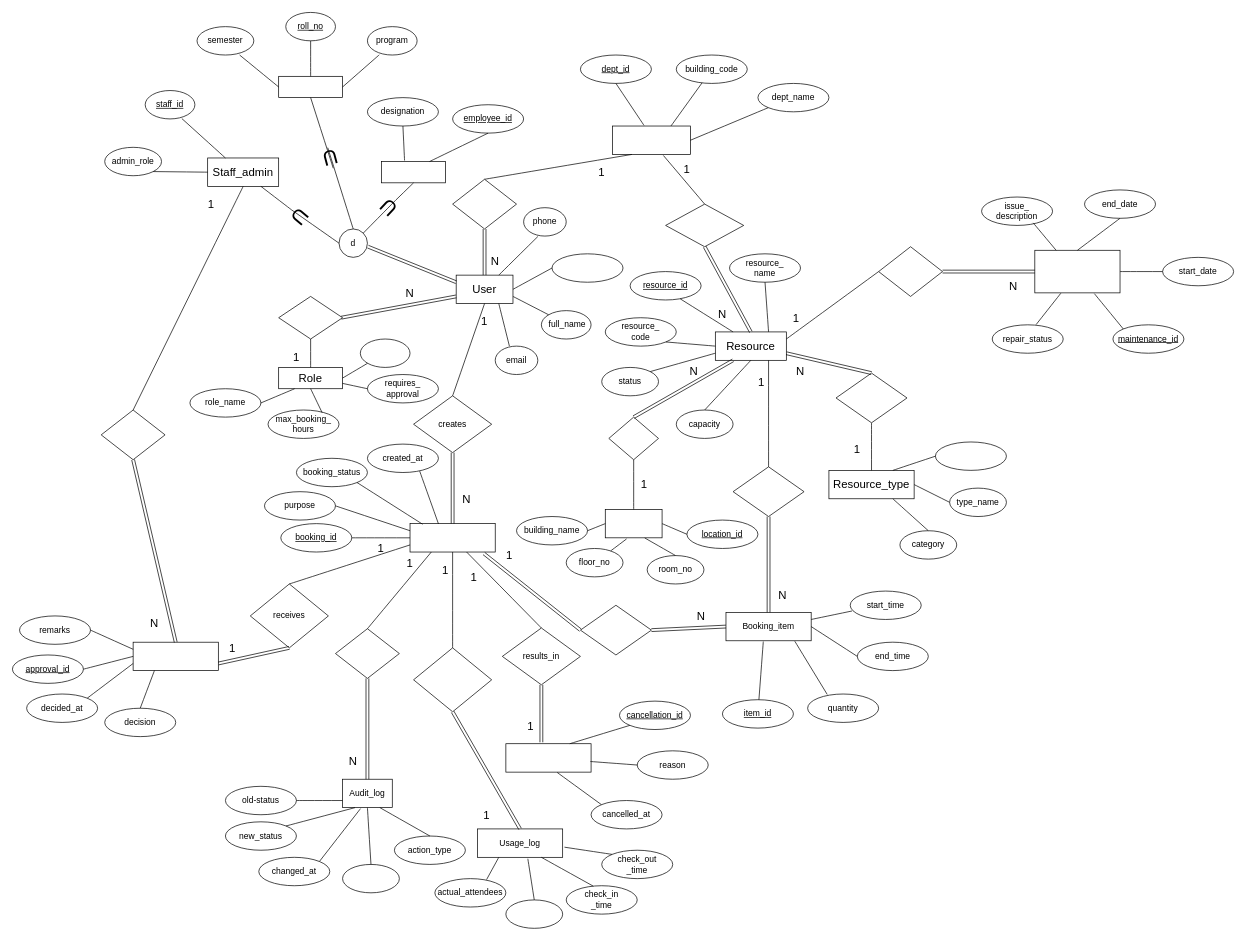
Some shapes in this 1246 by 941 pixel diagram are drawn without their labels. Each missing label, with the centre of its shape:
Approval: the point at 175,656
assigned: the point at 310,317
belongs_to: the point at 484,204
Booking: the point at 452,537
Cancellation: the point at 548,757
categorizes: the point at 871,397
Department: the point at 651,139
Faculty: the point at 413,172
generates: the point at 367,653
houses: the point at 633,438
includes: the point at 615,630
issues: the point at 132,434
Location: the point at 633,523
log_id: the point at 370,878
Maintenance: the point at 1077,271
owns: the point at 704,225
recorded_in: the point at 452,679
reserves: the point at 768,491
role_id: the point at 385,352
Student: the point at 310,87
type_id: the point at 970,455
undergoes: the point at 910,271
usage_id: the point at 534,913
user_id: the point at 587,267
